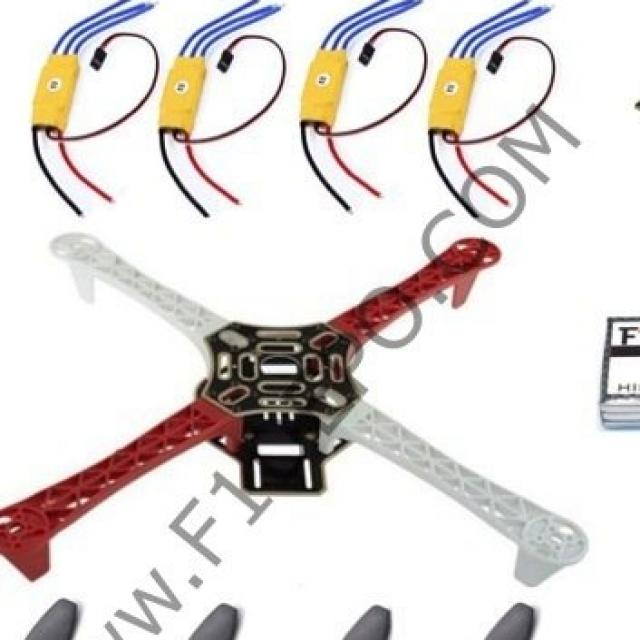drone: (0, 212, 631, 612)
